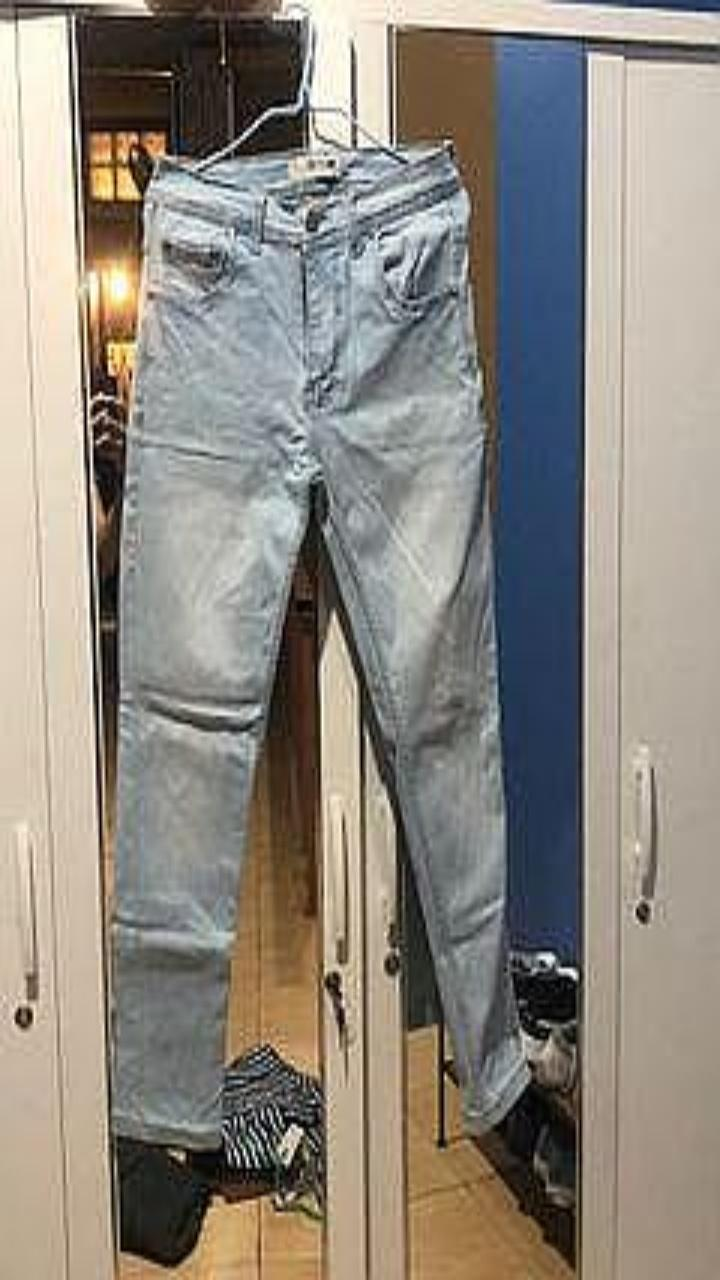Jeans: (113, 148, 527, 1146)
